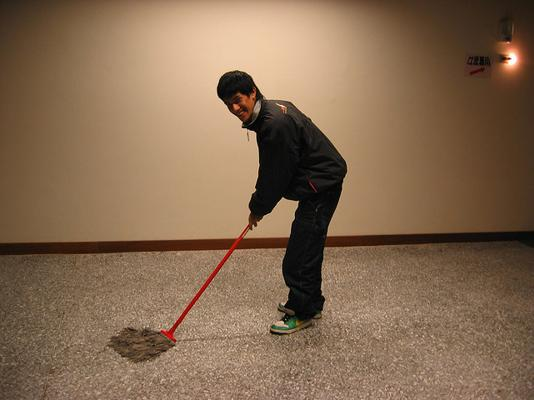person: (218, 70, 350, 333)
